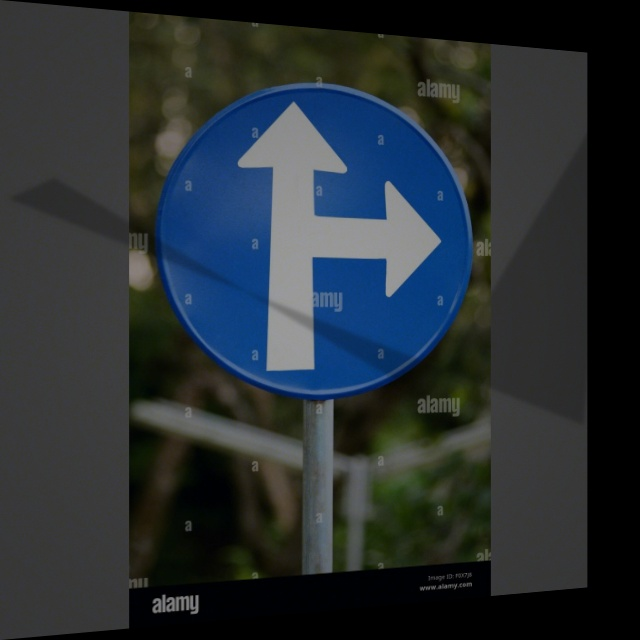Compulsory_Ahead_or_Turn_Right: (158, 68, 464, 399)
